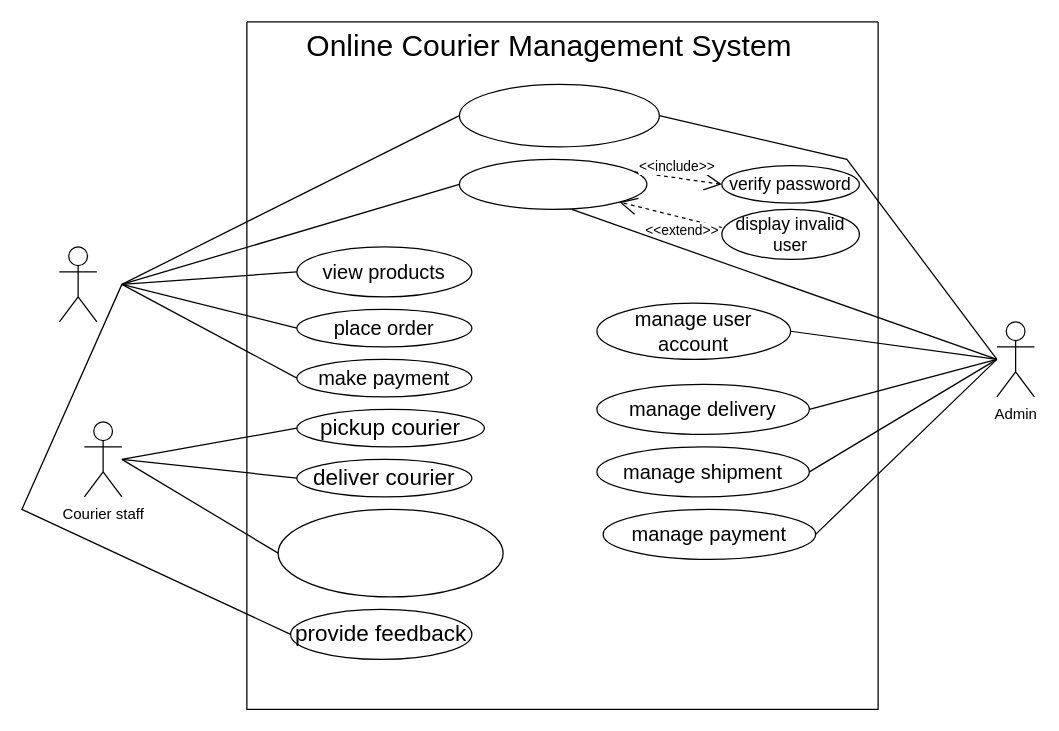
Image size: 1059x731. Some labels were removed from this diagram. Here are the shapes that lost their labels. From the top down, the centre of each, then its label:
At [558,115]: "Perform registration".
At [552,183]: "Perform login".
At [77,284]: "Customer".
At [390,552]: "communicate with customer and admin".
